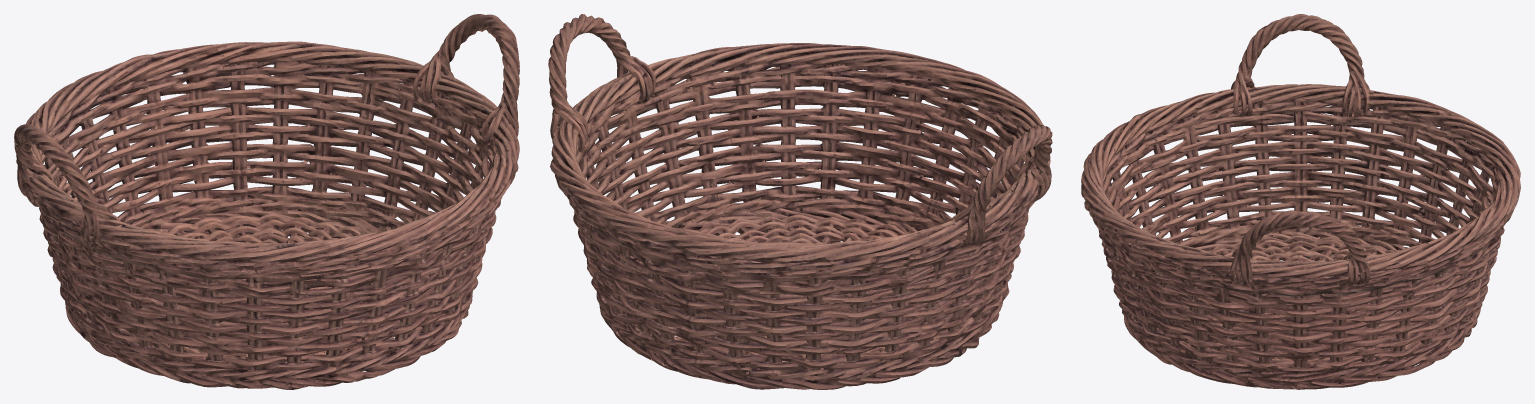
File: o01_hasir_sepet.glb
3 renders of one model, left to right at view 1: azimuth 30°, elevation 25°; view 2: azimuth 150°, elevation 25°; view 3: azimuth 270°, elevation 25°, orthographic. The views are drawn at different scales.
Visible parts, largest first — view 1: output; view 2: output; view 3: output.
Boxes of the visible parts, x1,y1,x2,y2 form: output: (14, 14, 519, 389); output: (548, 14, 1052, 389); output: (1081, 14, 1520, 389).
Size of the model in its own units: 1.9 by 0.9001 by 1.74.
1 material, 1 textured.
